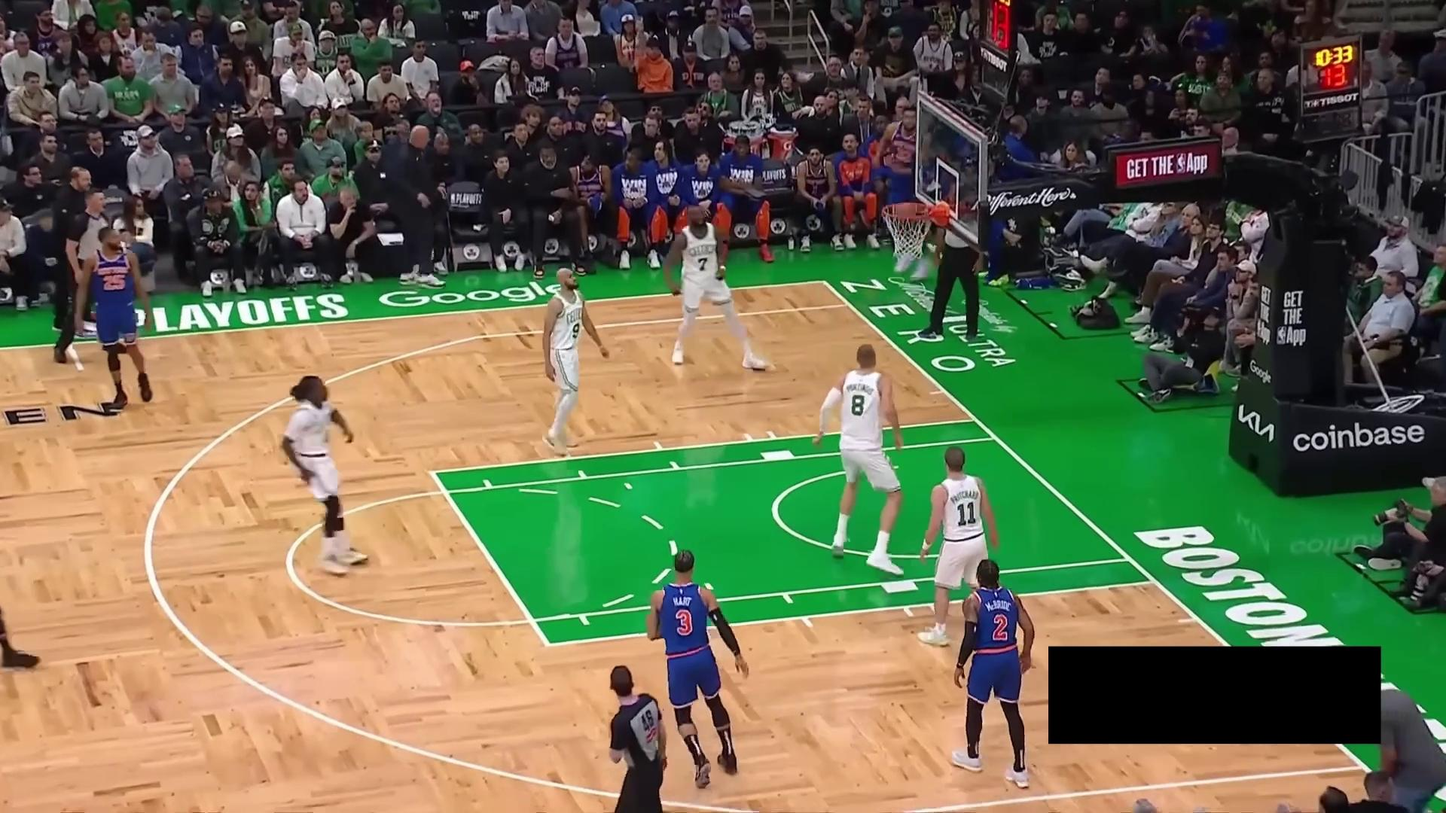ball: (895, 200, 918, 220)
ball-in-basket: (882, 200, 935, 270)
number: (955, 501, 975, 528), (675, 607, 691, 635), (103, 272, 125, 290), (994, 612, 1008, 638), (851, 394, 866, 417), (570, 319, 581, 338), (698, 257, 709, 273)
player: (648, 549, 749, 789), (813, 343, 905, 573), (949, 558, 1037, 790), (278, 373, 372, 577), (662, 202, 771, 372), (920, 445, 1001, 648), (75, 224, 157, 410), (542, 266, 608, 453), (872, 104, 929, 282), (0, 600, 42, 670)
referee: (52, 186, 114, 365), (607, 664, 670, 813), (923, 198, 986, 340)
rim: (884, 201, 933, 221)
